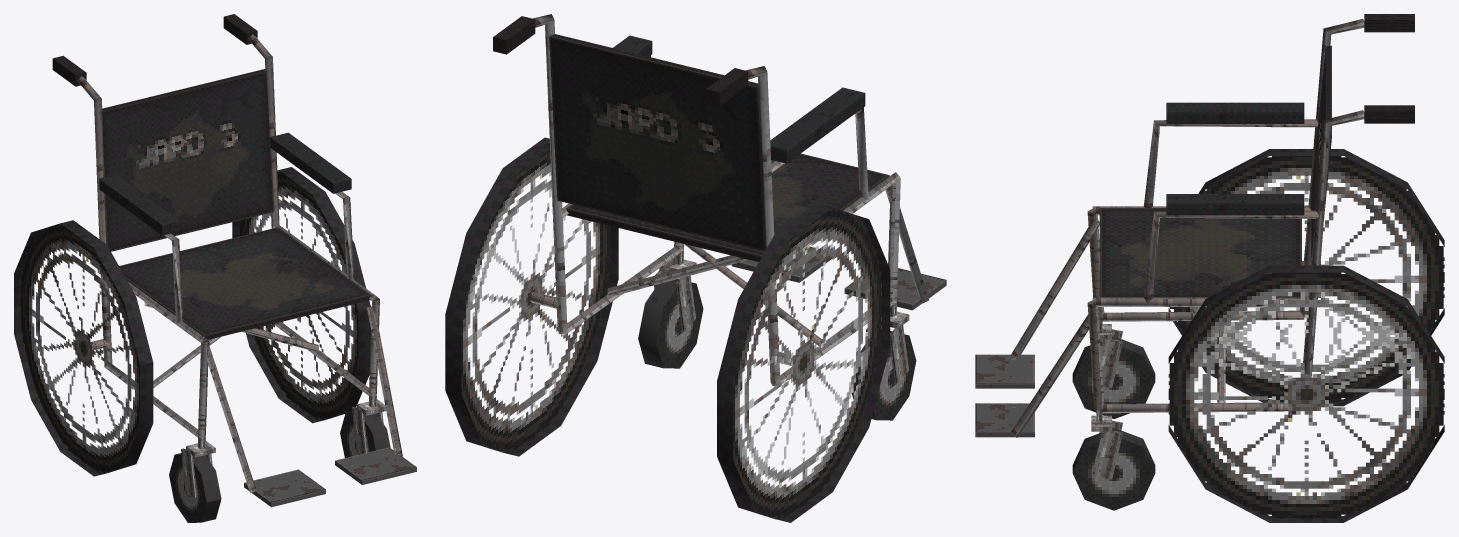
Rendered from wheelchair.glb.
3 views of the same model, side by side, from view 1: azimuth 30°, elevation 25°; view 2: azimuth 150°, elevation 25°; view 3: azimuth 270°, elevation 25° (orthographic). The views are drawn at different scales.
Visible parts, largest first — view 1: wheelchair; view 2: wheelchair; view 3: wheelchair.
Part boxes in pixels (box(x1,y1,x2,y2)): wheelchair: box(14, 14, 416, 522); wheelchair: box(445, 14, 946, 522); wheelchair: box(975, 14, 1444, 522).
Bounding box in the file's own units: 0.636 × 0.955 × 1.02.
Materials: 1 (1 with a texture image).
